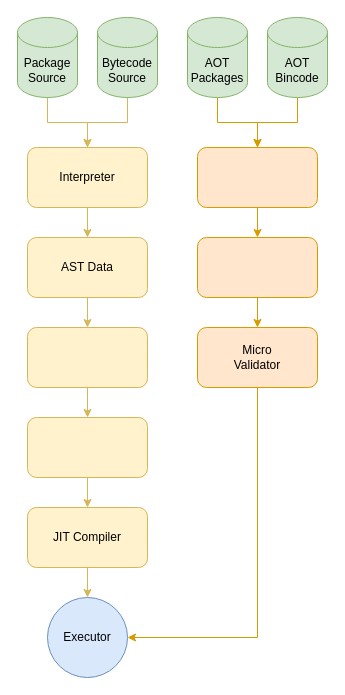
The diagram is 345 pixels wide and 695 high, and some of its shapes have lost their labels. The box of each missing label's shape, as (x1, y1, x2, y2) in pixels:
Decompressor: (196, 146, 318, 208)
Decryptor: (196, 236, 318, 298)
Optimizer: (26, 416, 148, 478)
Validator: (26, 326, 148, 388)
